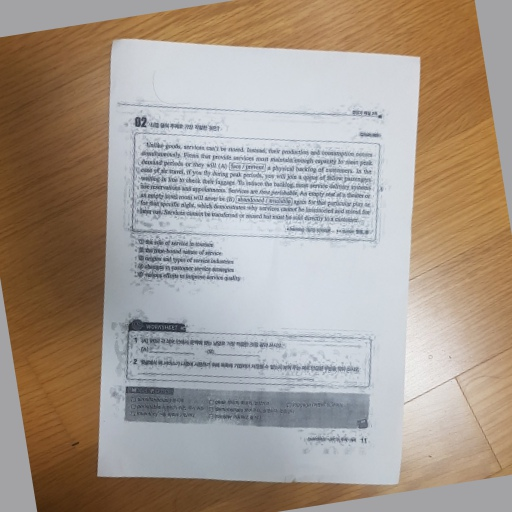Paper_2: (93, 33, 423, 495)
